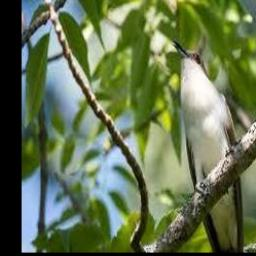Cuckoo: (172, 39, 243, 253)
